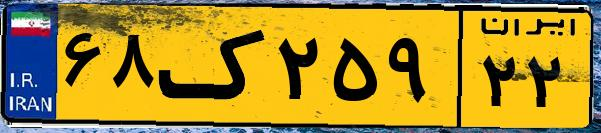2: (270, 28, 330, 110), (475, 38, 525, 113), (525, 38, 570, 115)
5: (330, 28, 385, 110)
6: (57, 26, 110, 100)
8: (110, 28, 158, 98)
9: (385, 28, 445, 110)
ک: (158, 12, 270, 120)
